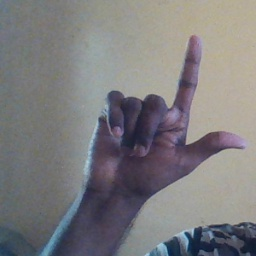L: (84, 34, 248, 191)
